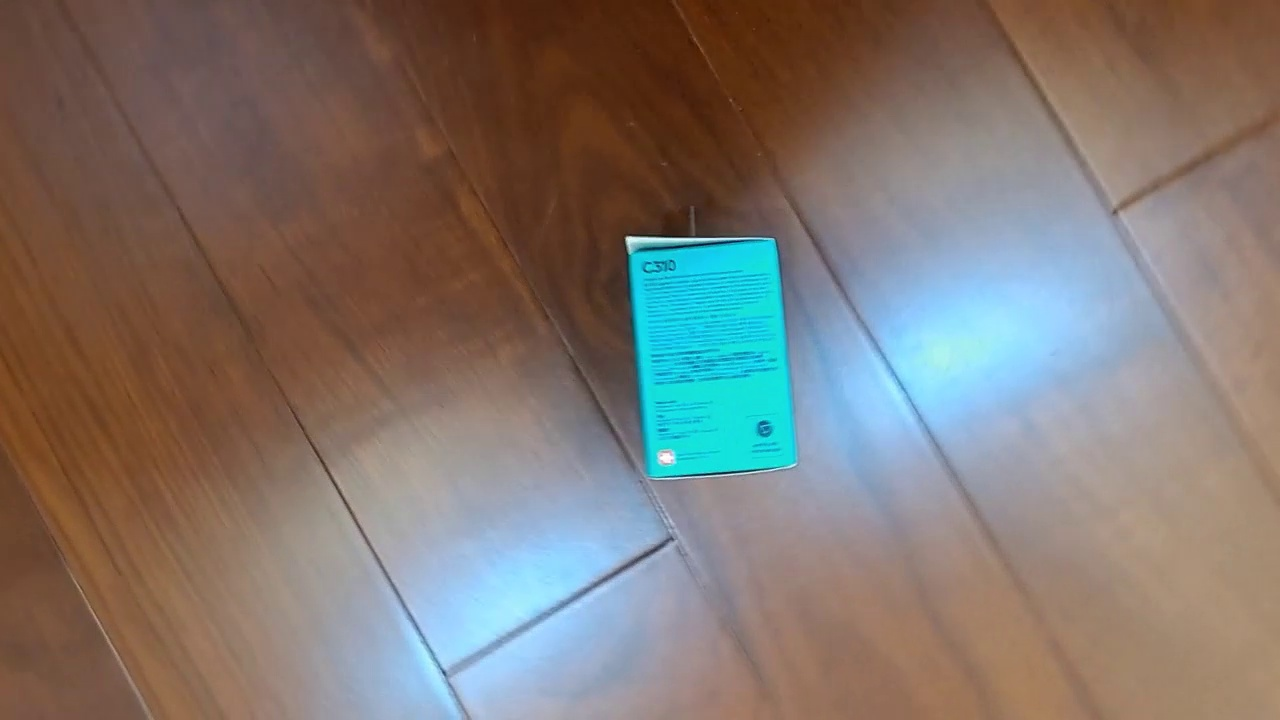webcam: (623, 235, 800, 481)
